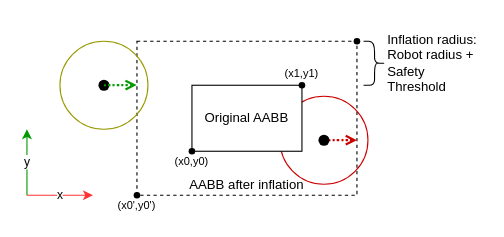
Image size: 504x237. Some labels were removed from this diagram. Each missing label, with the box of its shape:
(x1',y1'): (334, 18, 379, 63)
Point 1: (80, 61, 127, 108)
Point 2: (300, 116, 347, 163)
